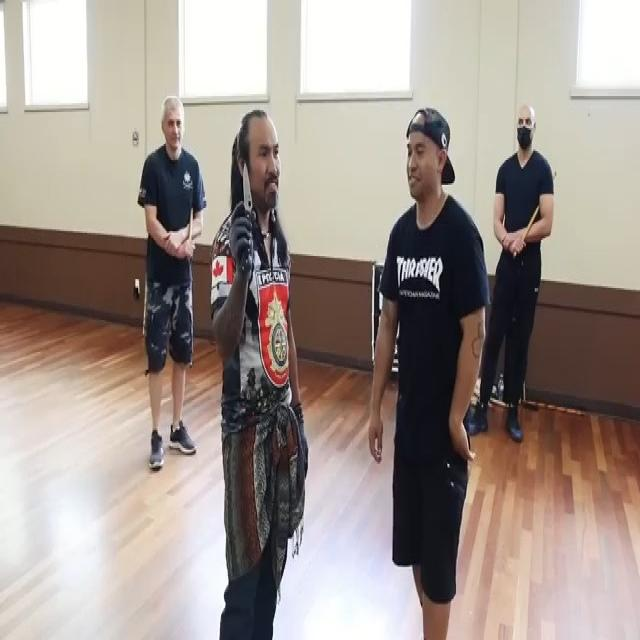Sharp-Object: (241, 161, 258, 263)
